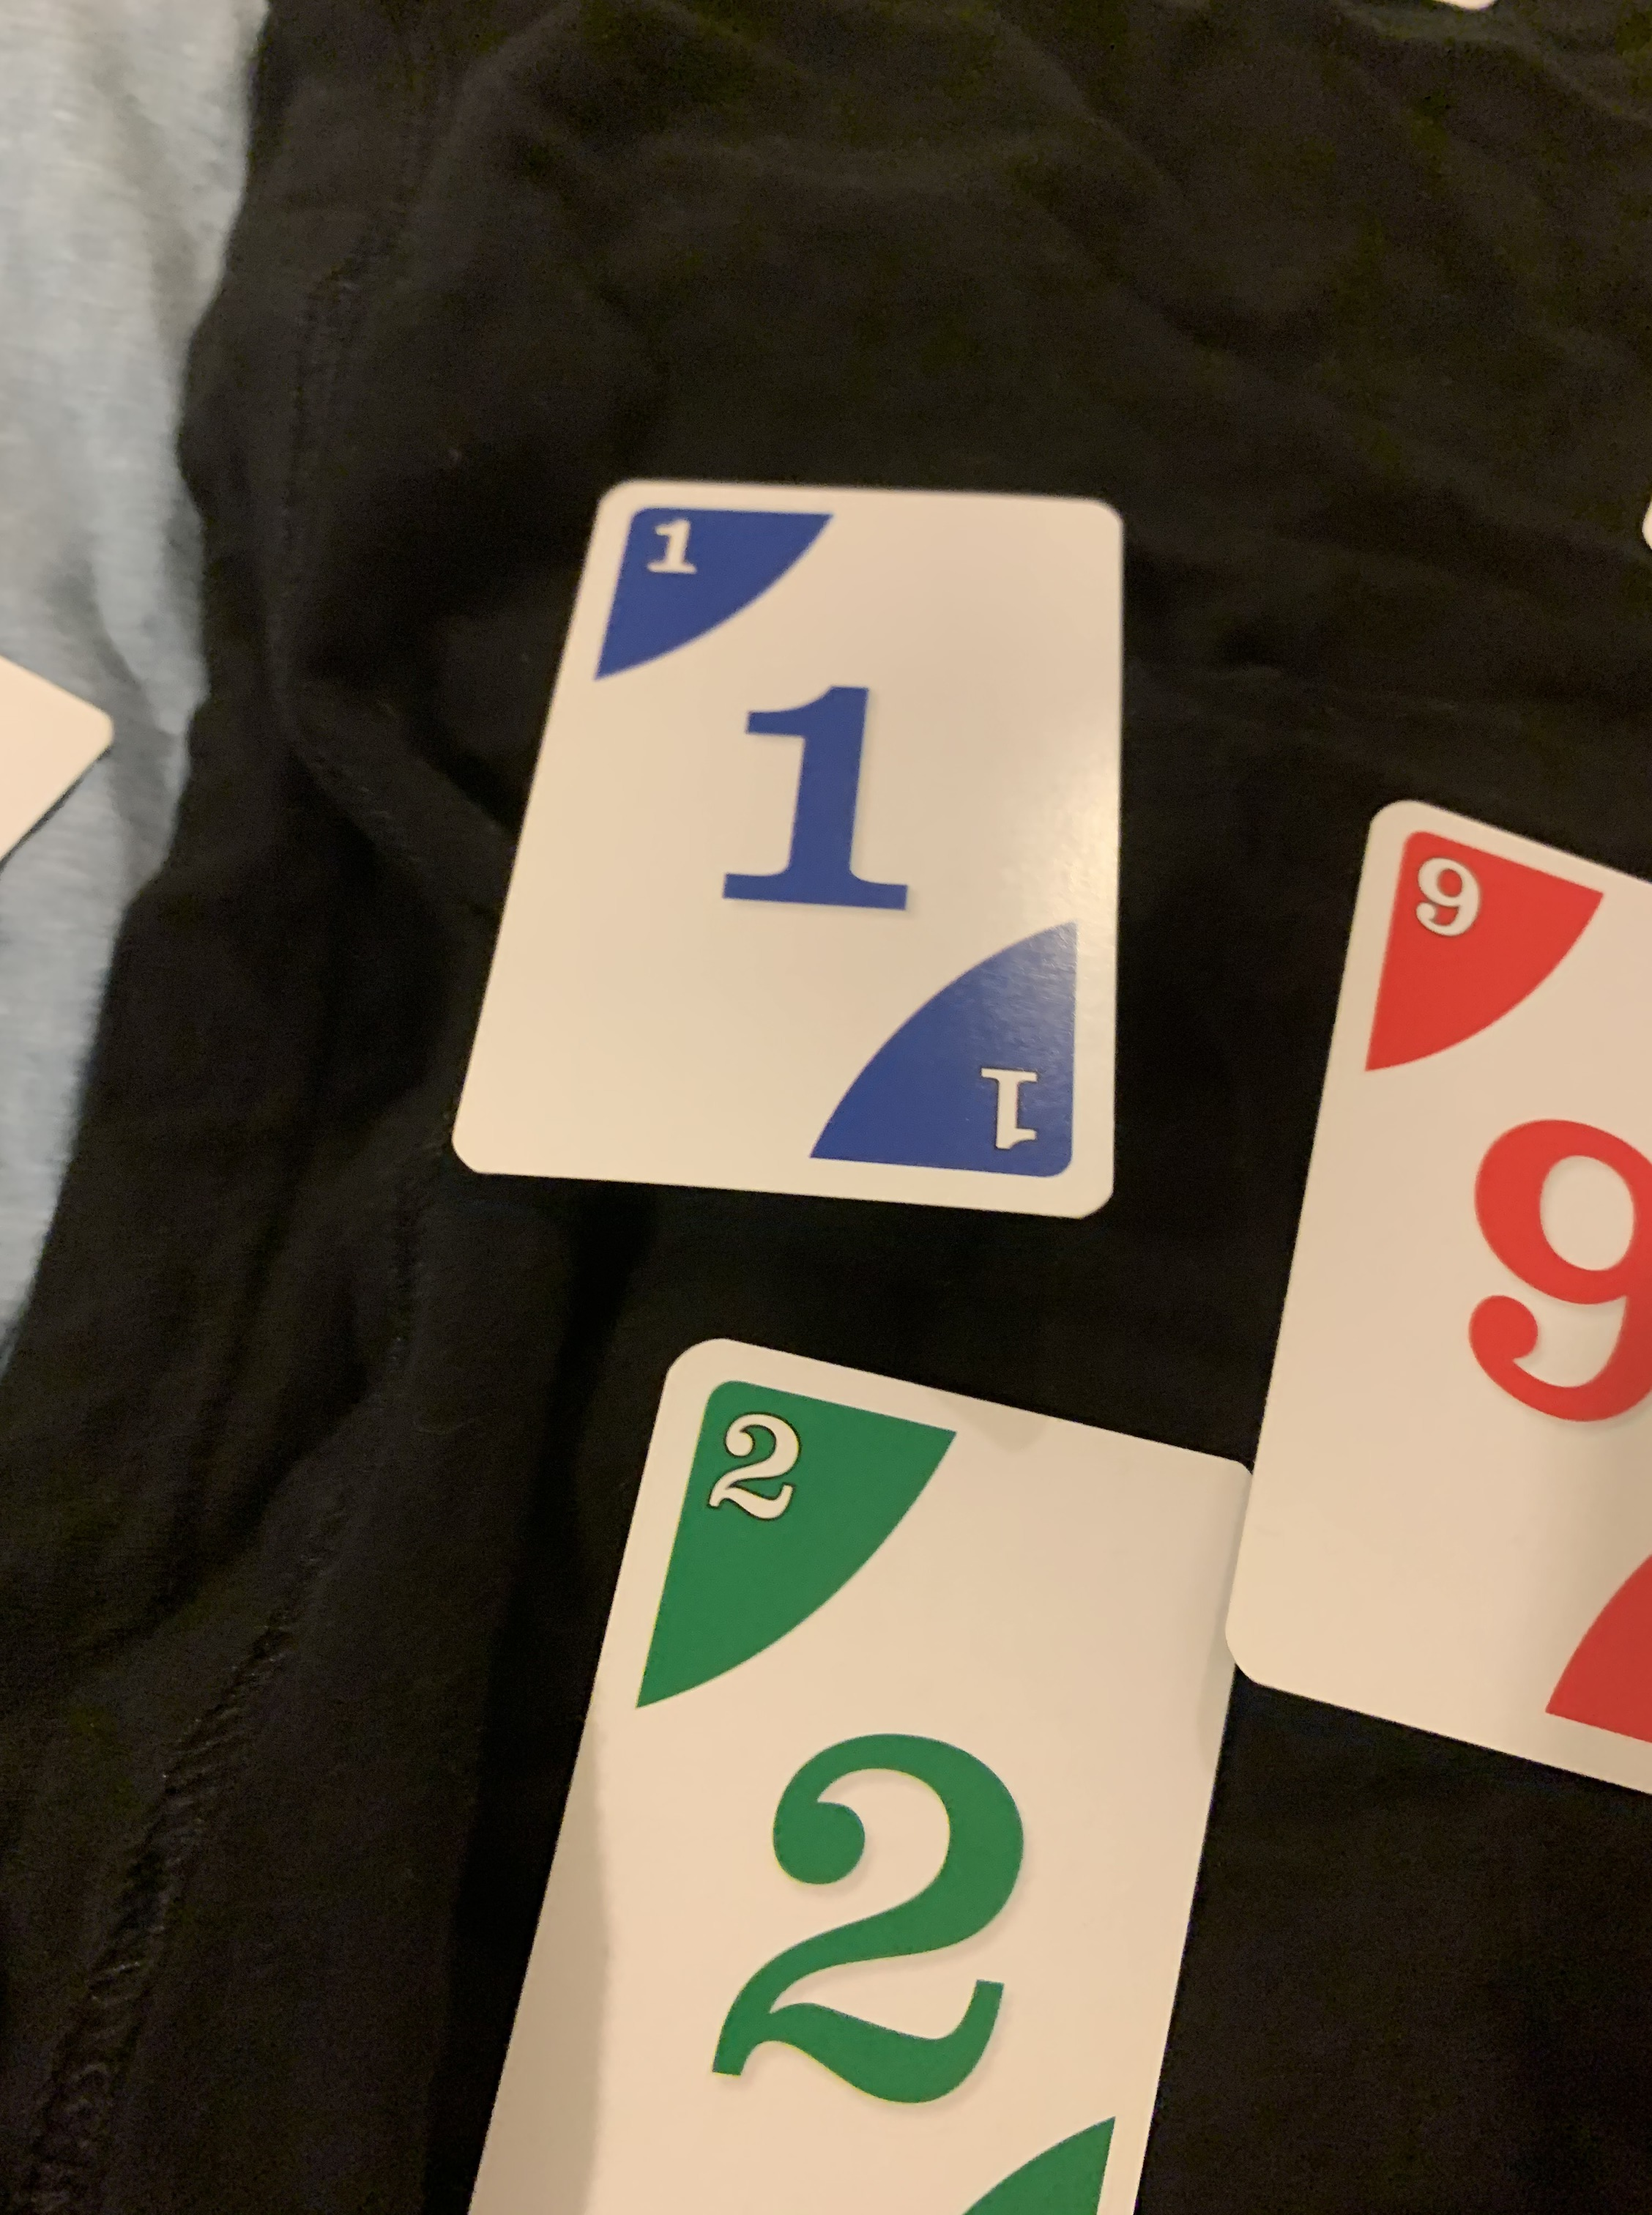nine: (1248, 792, 1652, 1831)
one: (443, 481, 1128, 1222)
two: (465, 1345, 1242, 2215)
